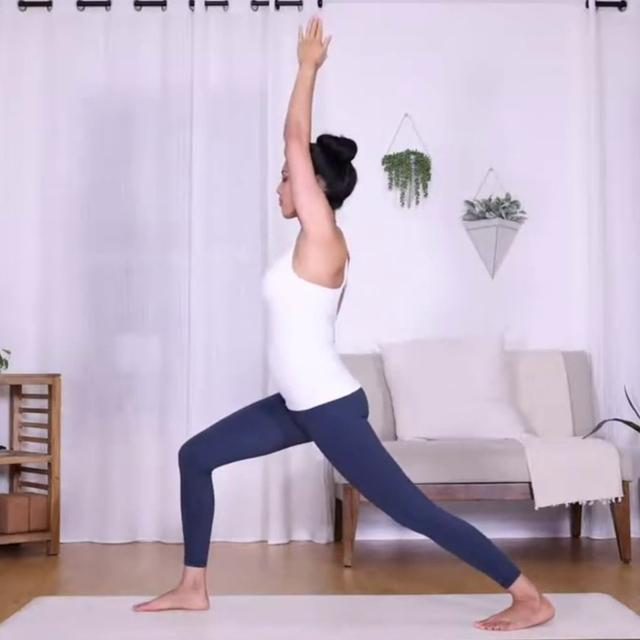Warrior_I: (126, 12, 565, 640)
